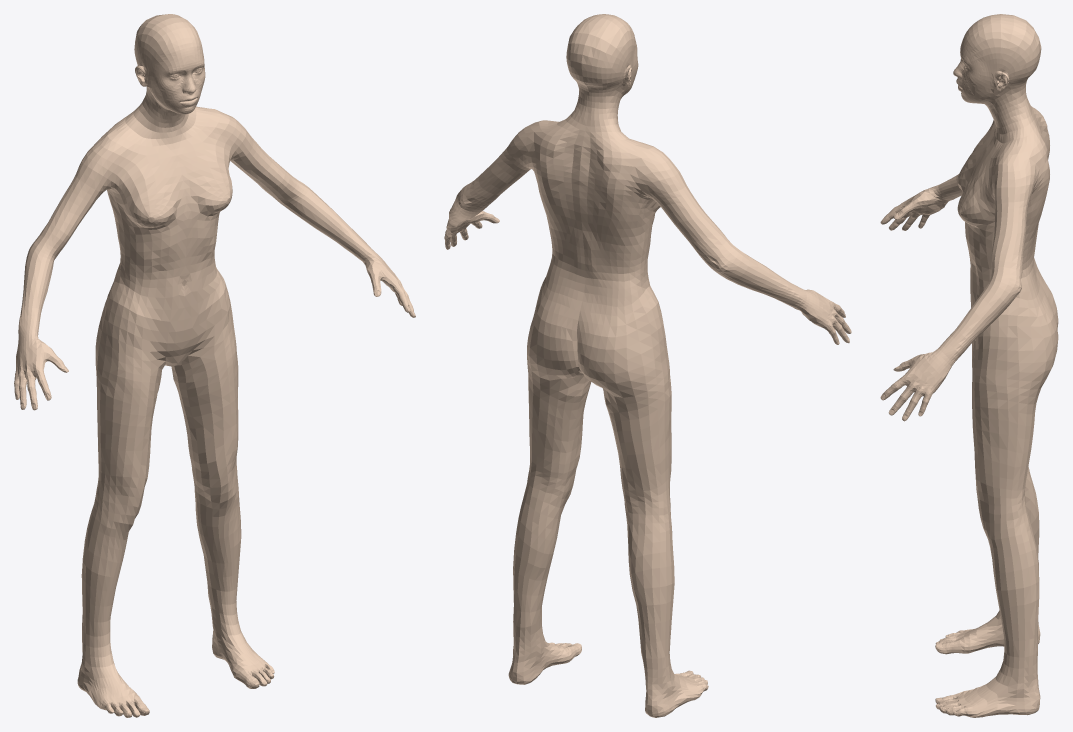
The model's file is female-adult-lean-medium.glb.
The picture shows the model from 3 angles, left to right: view 1: azimuth 30°, elevation 25°; view 2: azimuth 150°, elevation 25°; view 3: azimuth 270°, elevation 25°; orthographic projection.
Visible parts, largest first — view 1: world; view 2: world; view 3: world.
Boxes of the visible parts, x1,y1,x2,y2 form: world: (14, 14, 415, 717); world: (444, 14, 851, 717); world: (880, 14, 1058, 717).
Size of the model in its own units: 1.12 by 1.81 by 0.4408.
